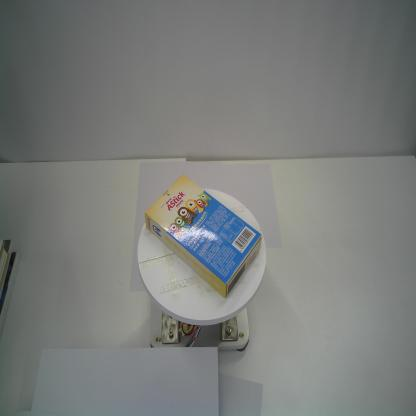Dessert: (144, 172, 263, 299)
